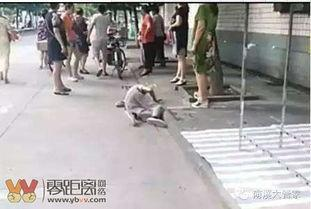Fall-Detected: (113, 76, 170, 128)
